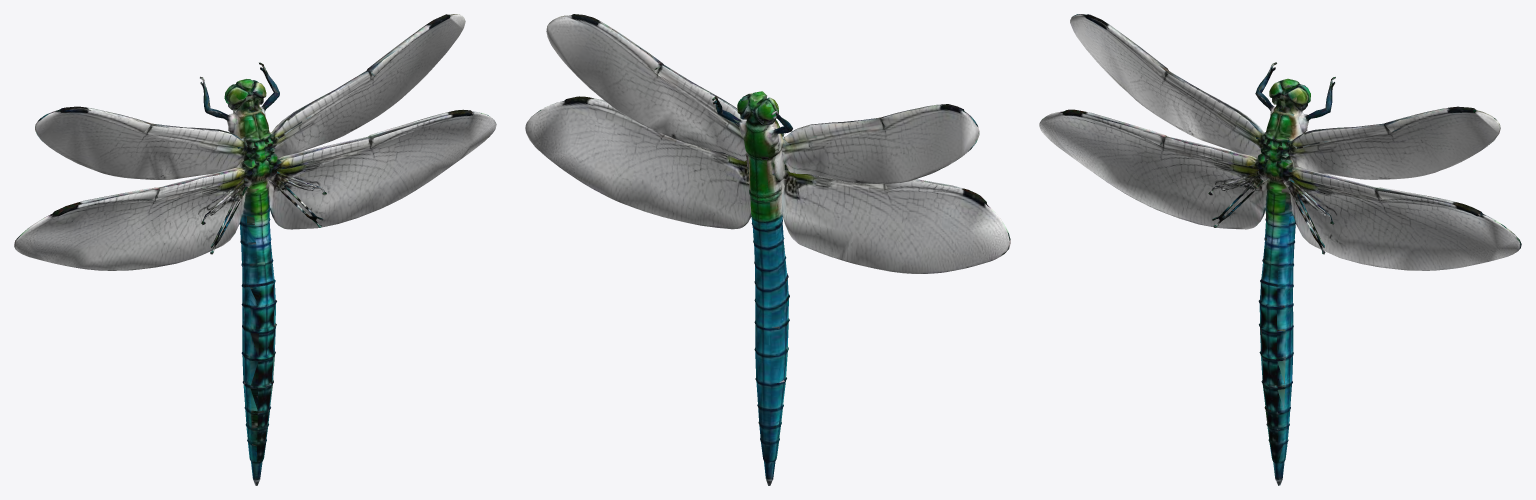
Rendered from dragonfly.glb.
3 views of the same model, side by side, from view 1: azimuth 30°, elevation 25°; view 2: azimuth 150°, elevation 25°; view 3: azimuth 330°, elevation 25° (orthographic).
Parts seen in each view (by area): view 1: dragonfly; view 2: dragonfly; view 3: dragonfly.
Part boxes in pixels (bbox=[...]): dragonfly: bbox=[14, 14, 496, 485]; dragonfly: bbox=[525, 14, 1010, 485]; dragonfly: bbox=[1039, 14, 1521, 485].
Bounding box in the file's own units: 1 × 0.84 × 0.1379.
Materials: 1 (1 with a texture image).
